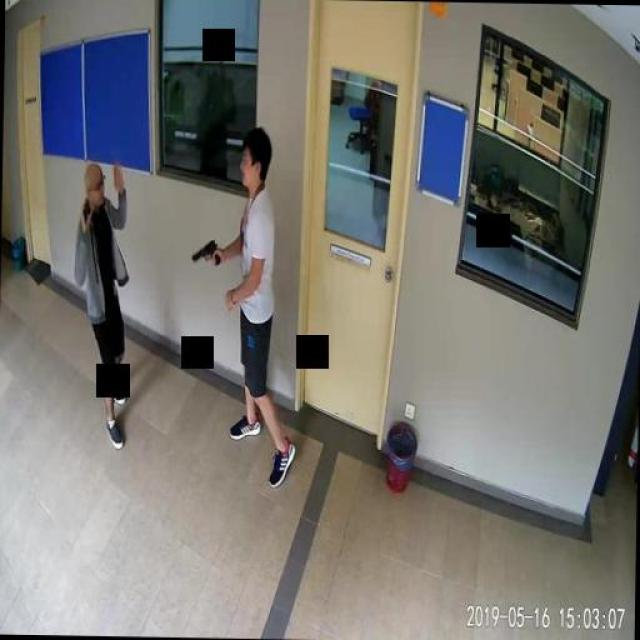gun: (190, 238, 220, 266)
